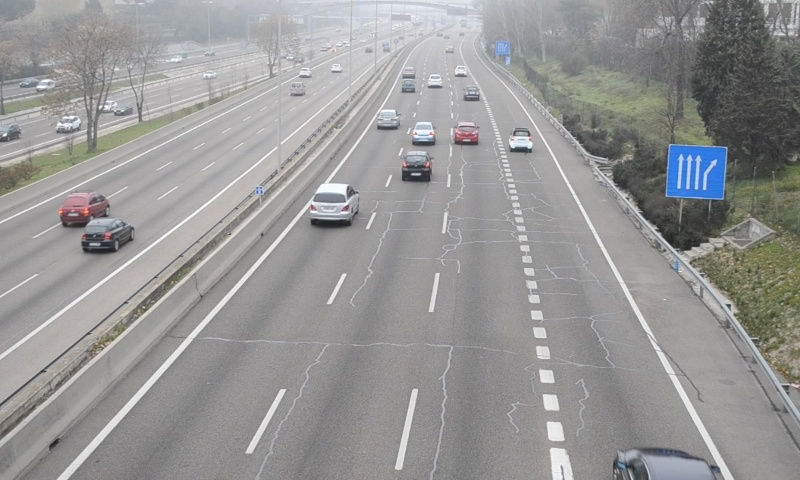car: (308, 182, 360, 222), (401, 151, 433, 182), (455, 121, 480, 146), (509, 126, 532, 153), (412, 121, 436, 146), (376, 110, 401, 131), (463, 86, 481, 102), (400, 78, 416, 94), (426, 73, 443, 88)
